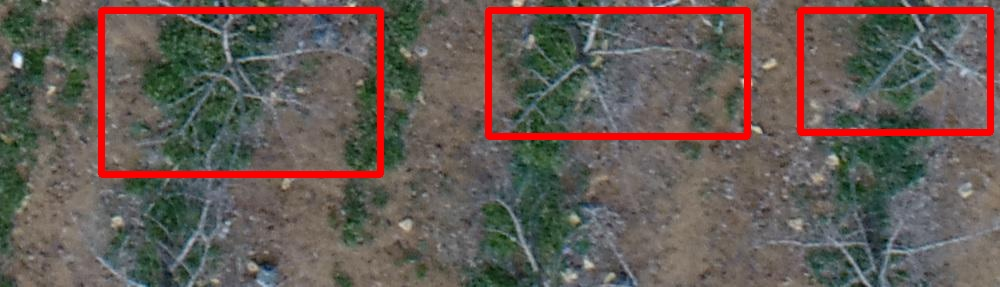apple: (101, 10, 380, 174), (488, 10, 747, 136), (800, 10, 990, 132)
